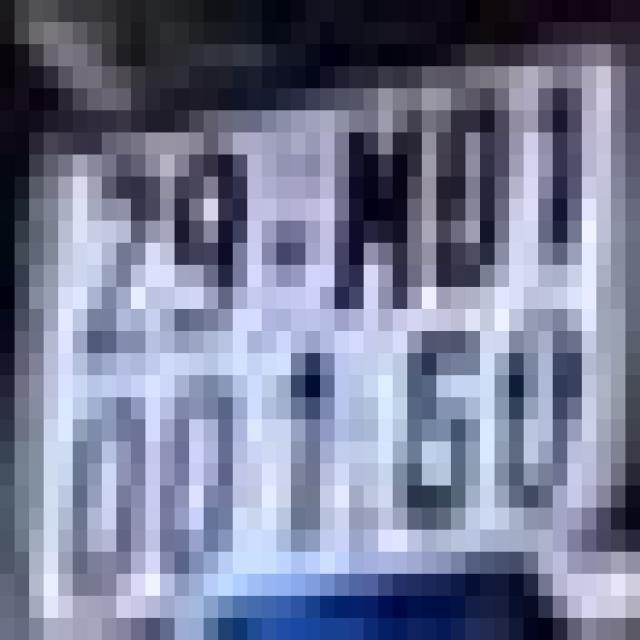0: (58, 375, 146, 596), (509, 309, 582, 508), (160, 376, 233, 574)
1: (276, 353, 334, 552), (524, 88, 582, 265)
5: (407, 331, 480, 530)
7: (87, 154, 160, 353)
9: (160, 154, 248, 353)
D: (436, 88, 509, 287)
M: (334, 110, 422, 309)
